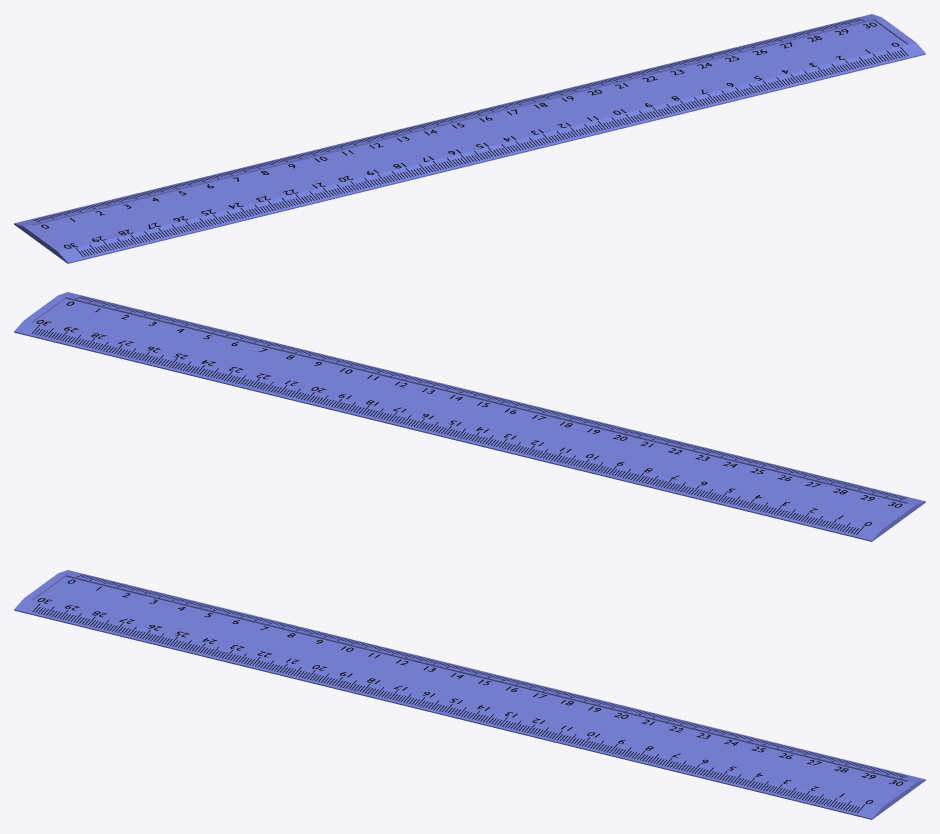
File: sweethome3d-blendswap-cc-0-ruler.glb
3 renders of one model, top to bottom at view 1: azimuth 30°, elevation 25°; view 2: azimuth 150°, elevation 25°; view 3: azimuth 330°, elevation 25°, orthographic.
Visible parts, largest first — view 1: Cube, Plane.320_Plane.321, Plane.000_Plane.323; view 2: Cube, Plane.000_Plane.323, Plane.320_Plane.321; view 3: Cube, Plane.320_Plane.321, Plane.000_Plane.323.
Part boxes in pixels (bbox=[...]): Cube: bbox=[14, 14, 925, 263]; Plane.320_Plane.321: bbox=[76, 47, 908, 256]; Plane.000_Plane.323: bbox=[33, 18, 864, 222]; Cube: bbox=[14, 292, 925, 541]; Plane.000_Plane.323: bbox=[32, 324, 864, 534]; Plane.320_Plane.321: bbox=[75, 296, 906, 500]; Cube: bbox=[14, 570, 925, 819]; Plane.320_Plane.321: bbox=[32, 603, 864, 813]; Plane.000_Plane.323: bbox=[76, 574, 907, 778].
Size of the model in its own units: 31.23 by 0.1747 by 3.4.
